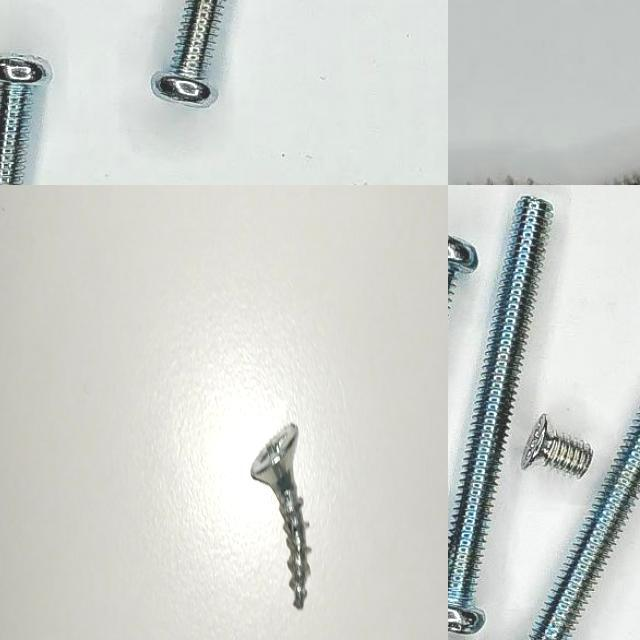Screw: (448, 195, 553, 634), (528, 413, 640, 640), (250, 423, 311, 609), (151, 0, 223, 107), (0, 55, 51, 185), (521, 414, 593, 478)
